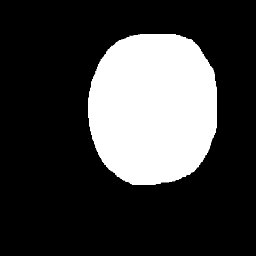mass: (93, 32, 212, 179)
